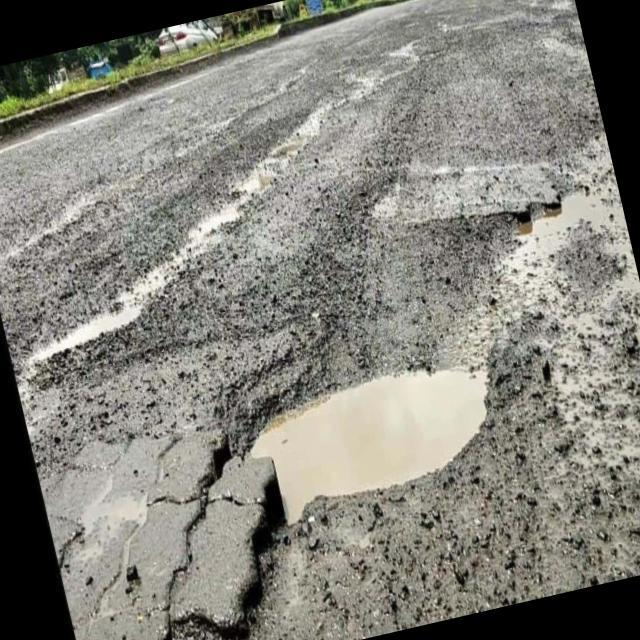Pothole: (236, 342, 512, 532)
